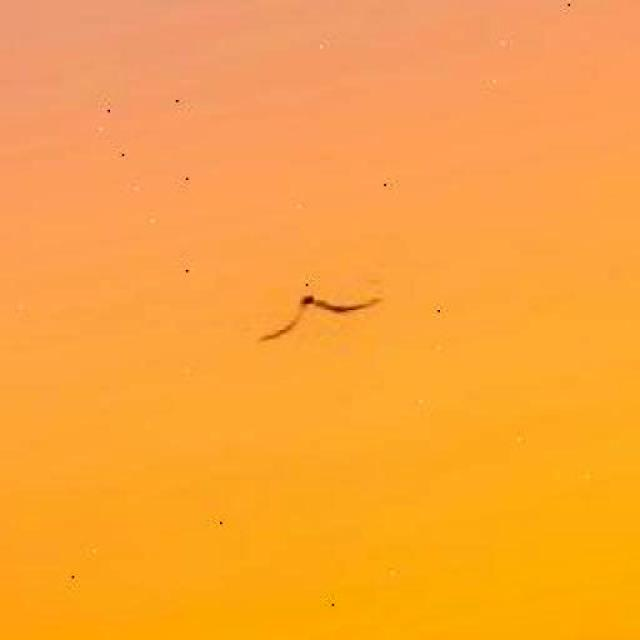airplane: (249, 281, 389, 342)
